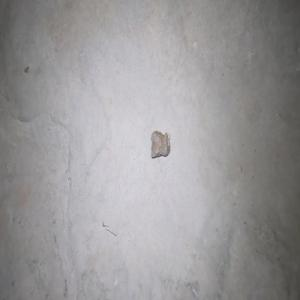Rock: (150, 129, 170, 158)
